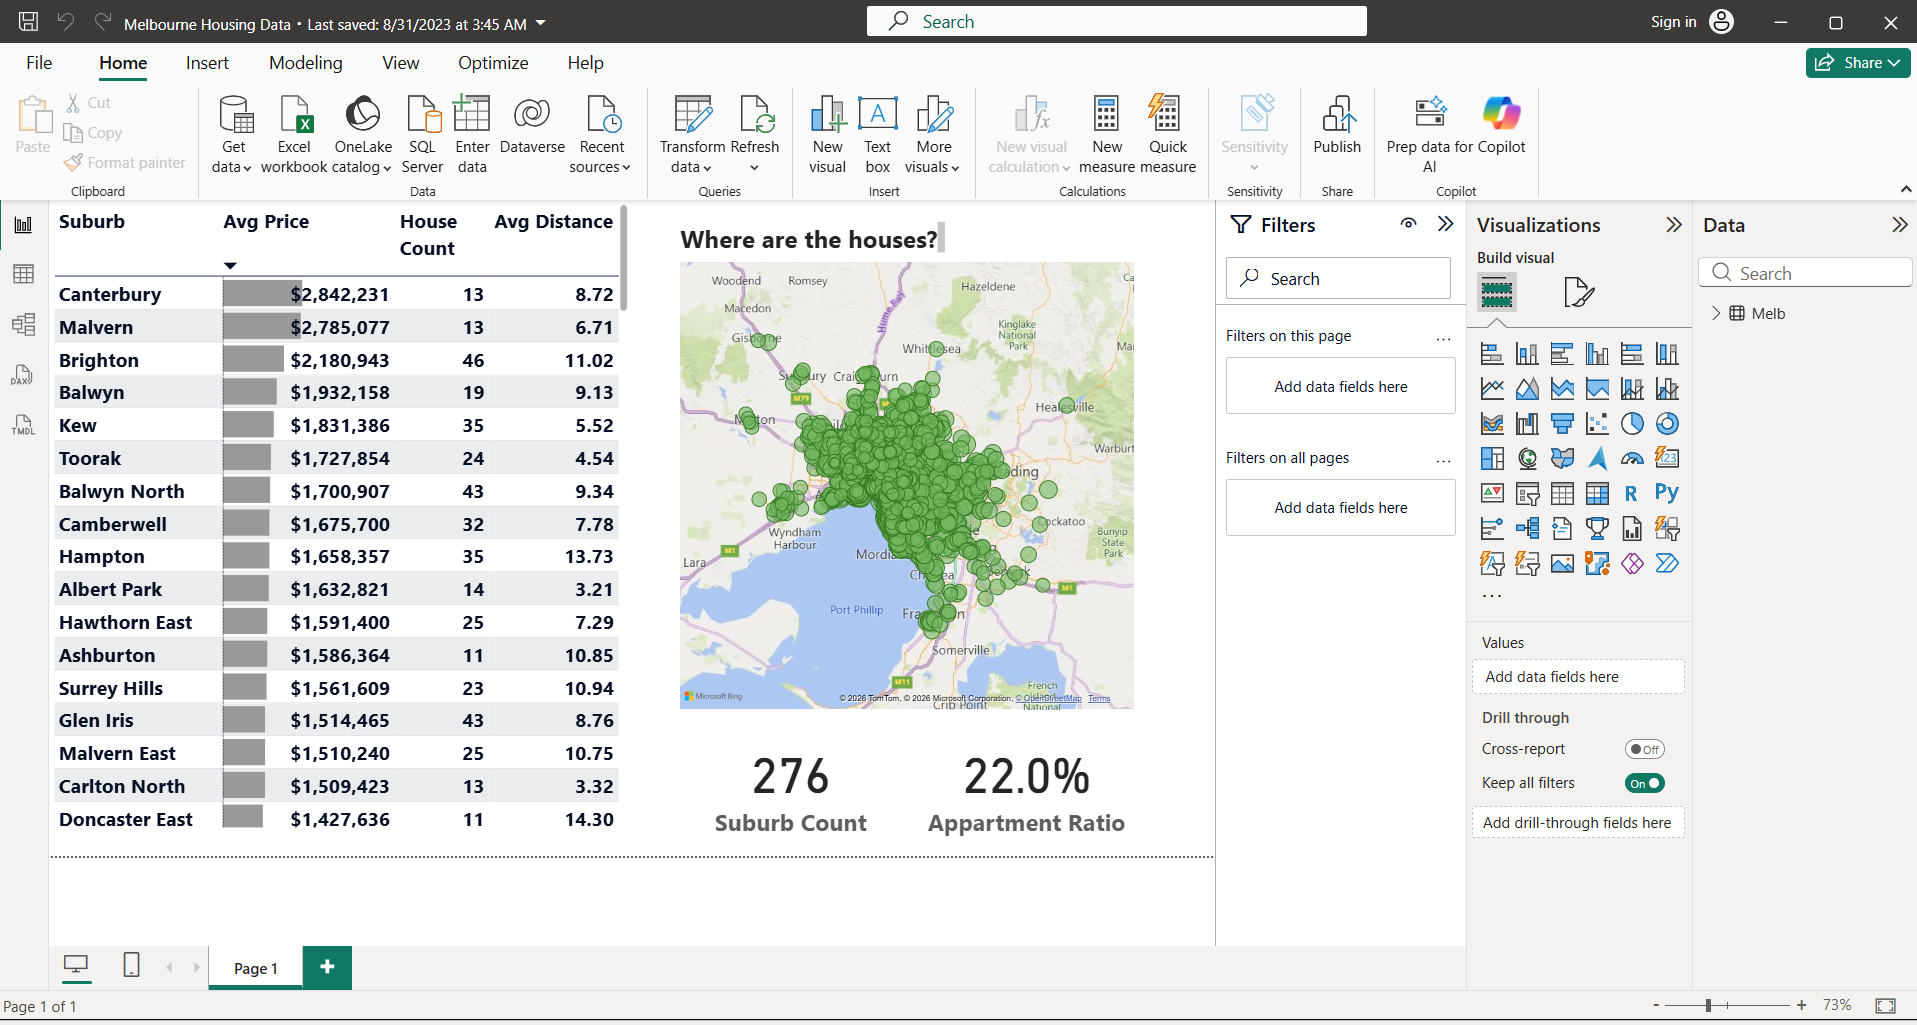

What the dashboard file says about the page in this screenshot:
{"tool":"powerbi","page":{"name":"Page 1","canvas":[1280,720],"ordinal":0},"visuals":[{"type":"tableEx","fields":{"Values":["Melb.Suburb","Melb.Avg Price","Melb.House Count","Melb.Avg Distance"]},"box":[0,0,640,694.2],"z":0},{"type":"card","fields":{"Values":["Melb.Suburb Count"]},"box":[687.4,563.8,254,155.8],"z":1000},{"type":"map","fields":{"Y":["Melb.Lattitude"],"X":["Melb.Longtitude"],"Size":["Melb.Avg Price"]},"box":[687.4,62.6,507.9,501.2],"z":1001},{"type":"card","fields":{"Values":["Melb.Appartment Ratio"]},"box":[941.4,563.8,264.1,155.8],"z":1002},{"type":"textbox","box":[687.4,18.6,301.4,44],"z":1003}]}

Visuals, with their boxes on the page's 1280x720 design canvas (x1, y1, x2, y2). These are canvas units, not pixel positions in the 1917x1025 screenshot, which may show the page scaled, cropped or inside an application window:
tableEx - Melb.Suburb x Melb.Avg Price: [0,0,640,694]
card - Melb.Suburb Count: [687,564,941,720]
map - Melb.Lattitude x Melb.Longtitude: [687,63,1195,564]
card - Melb.Appartment Ratio: [941,564,1206,720]
textbox: [687,19,989,63]
